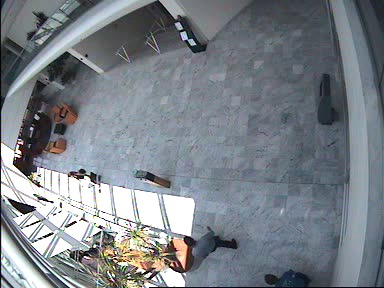person: (183, 225, 237, 259), (67, 167, 101, 193)
